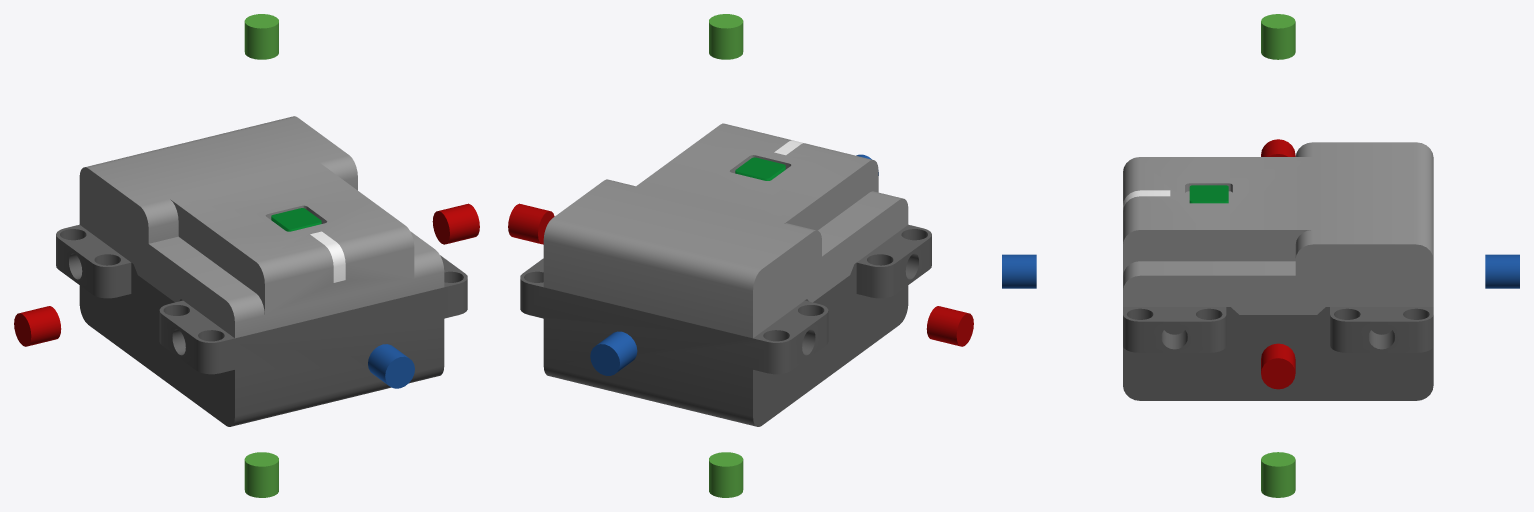
File: Technic Hub.fbx
The picture shows the model from 3 angles, left to right: view 1: azimuth 30°, elevation 25°; view 2: azimuth 150°, elevation 25°; view 3: azimuth 270°, elevation 25°; orthographic projection.
Parts seen in each view (by area): view 1: Technic Hub Body, X Axis Negative, X Axis Positive, Y Axis Positive, Y Axis Negative, Z Axis Positive, Technic Hub Button; view 2: Technic Hub Body, X Axis Positive, Y Axis Positive, Y Axis Negative, Z Axis Negative, X Axis Negative, Technic Hub Button; view 3: Technic Hub Body, Y Axis Negative, Y Axis Positive, X Axis Negative, Z Axis Positive, Z Axis Negative, Technic Hub Button.
Boxes of the visible parts, x1,y1,x2,y2 form: Technic Hub Body: [56, 116, 467, 426]; X Axis Negative: [432, 203, 479, 244]; X Axis Positive: [14, 306, 61, 346]; Y Axis Positive: [244, 14, 278, 59]; Y Axis Negative: [244, 452, 278, 497]; Z Axis Positive: [368, 344, 414, 388]; Technic Hub Button: [271, 208, 321, 231]; Technic Hub Body: [520, 123, 931, 426]; X Axis Positive: [926, 306, 973, 346]; Y Axis Positive: [709, 14, 743, 59]; Y Axis Negative: [709, 452, 743, 497]; Z Axis Negative: [590, 331, 637, 375]; X Axis Negative: [508, 203, 554, 244]; Technic Hub Button: [735, 157, 785, 180]; Technic Hub Body: [1123, 142, 1433, 400]; Y Axis Negative: [1261, 452, 1295, 497]; Y Axis Positive: [1261, 14, 1295, 59]; X Axis Negative: [1261, 343, 1295, 389]; Z Axis Positive: [1002, 254, 1036, 288]; Z Axis Negative: [1485, 254, 1519, 288]; Technic Hub Button: [1189, 185, 1228, 203].
Size of the model in its own units: 12 by 12 by 12.
